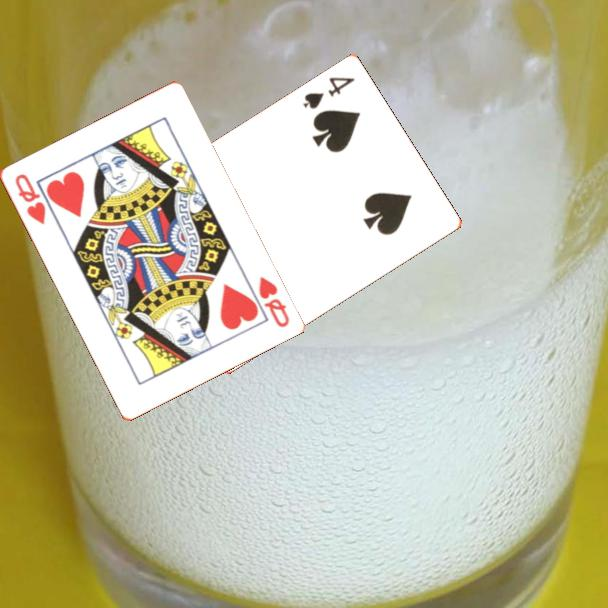h12: (11, 170, 48, 228), (255, 273, 292, 330)
s04: (299, 74, 358, 113)
